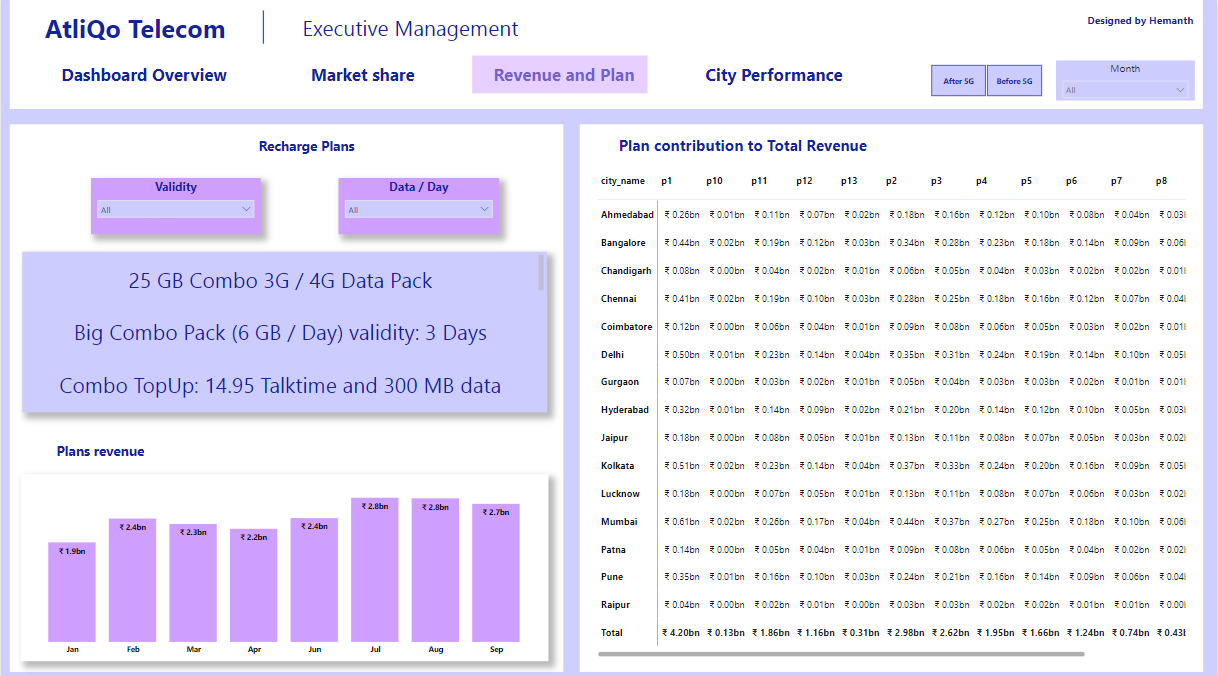

What the dashboard file says about the page in this screenshot:
{"tool":"powerbi","page":{"name":"Revenue and Plan Performance","canvas":[1920,1080],"ordinal":2},"visuals":[{"type":"shape","box":[960.9,231.6,414.4,59.7],"z":0},{"type":"shape","box":[913.9,199.1,984.5,865],"z":1000},{"type":"pivotTable","fields":{"Values":["Sum(fact_plan_revenue.plan_revenue)"],"Rows":["dim_cities.city_name"],"Columns":["fact_plan_revenue.plans"]},"box":[937.4,260.6,937.4,785.4],"z":2000},{"type":"shape","box":[953.7,213.2,436.1,38],"z":3000},{"type":"shape","box":[14.5,199.1,874.1,865],"z":4000},{"type":"slicer","title":"Validity","fields":{"Values":["dim_plan.Validity"]},"box":[143,284.1,267.8,88.7],"z":5000},{"type":"slicer","title":"Data / Day","fields":{"Values":["dim_plan.Data/Day"]},"box":[533.8,284.1,253.4,88.7],"z":6000},{"type":"advancedSlicerVisual","title":"Plan Details","fields":{"Values":["dim_plan.plan_description"]},"box":[34.4,399.9,828.8,253.4],"z":7000},{"type":"clusteredColumnChart","fields":{"Category":["dim_date.month_name"],"Y":["Sum(fact_plan_revenue.plan_revenue)"]},"box":[30.8,751,832.4,295],"z":8000},{"type":"shape","box":[45.2,694.5,222.6,39.8],"z":9000},{"type":"shape","box":[14.5,0,1883.9,175.5],"z":10000},{"type":"shape","box":[47.1,19.9,329.4,52.5],"z":11000},{"type":"shape","box":[437.9,19.9,416.2,52.5],"z":12000},{"type":"shape","box":[390.9,19.9,47.1,52.5],"z":13000},{"type":"shape","box":[61.5,92.3,329.4,54.3],"z":14000},{"type":"shape","box":[414.4,92.3,313.1,54.3],"z":15000},{"type":"shape","box":[743.8,92.3,289.5,54.3],"z":16000},{"type":"shape","box":[1065.9,92.3,309.5,54.3],"z":17000},{"type":"slicer","fields":{"Values":["dim_date.before/after_5g"]},"box":[1442.3,99.5,224.4,63.3],"z":18000},{"type":"shape","box":[1699.3,19.9,199.1,29],"z":19000},{"type":"slicer","title":"Month","fields":{"Values":["dim_date.month_name"]},"box":[1666.7,99.5,219,63.3],"z":20000},{"type":"shape","box":[371,213.2,222.6,39.8],"z":21000},{"type":"shape","box":[743.8,90.5,276.9,59.7],"z":22000}]}

Visuals, with their boxes in screenshot pixels (x1, y1, x2, y2), scaled from the page's 1920x1080 canvas onto the 1218x676 screenshot:
shape: 610, 145, 872, 182
shape: 580, 125, 1204, 666
pivotTable - Sum(fact_plan_revenue.plan_revenue) x dim_cities.city_name: 595, 163, 1189, 655
shape: 605, 133, 882, 157
shape: 9, 125, 564, 666
"Validity" slicer: 91, 178, 261, 233
"Data / Day" slicer: 339, 178, 499, 233
"Plan Details" advancedSlicerVisual: 22, 250, 548, 409
clusteredColumnChart - dim_date.month_name x Sum(fact_plan_revenue.plan_revenue): 20, 470, 548, 655
shape: 29, 435, 170, 460
shape: 9, 0, 1204, 110
shape: 30, 12, 239, 45
shape: 278, 12, 542, 45
shape: 248, 12, 278, 45
shape: 39, 58, 248, 92
shape: 263, 58, 462, 92
shape: 472, 58, 655, 92
shape: 676, 58, 873, 92
slicer - dim_date.before/after_5g: 915, 62, 1057, 102
shape: 1078, 12, 1204, 31
"Month" slicer: 1057, 62, 1196, 102
shape: 235, 133, 377, 158
shape: 472, 57, 648, 94
